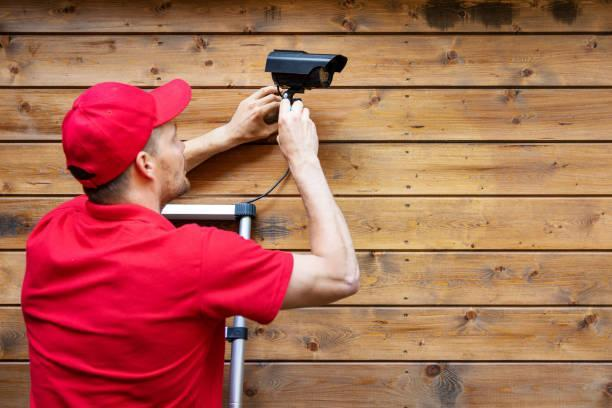camera: (247, 41, 354, 94)
